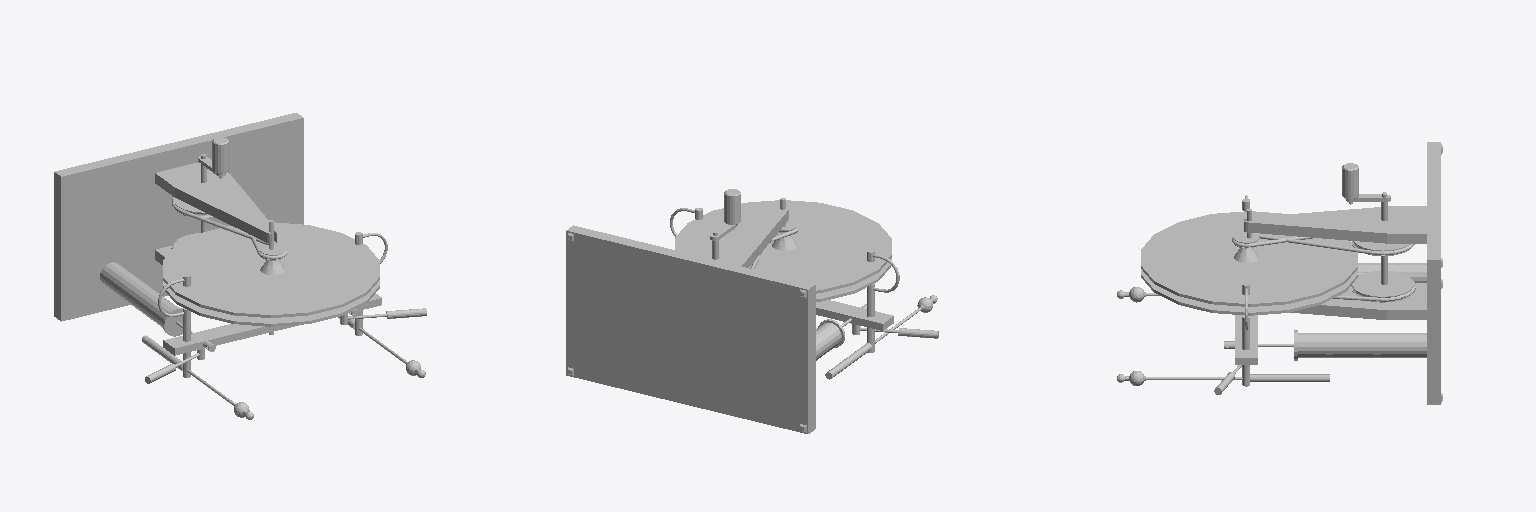
The model's file is Máquina electrostática de Wimshurst.obj.
3 views of the same model, side by side, from view 1: azimuth 30°, elevation 25°; view 2: azimuth 150°, elevation 25°; view 3: azimuth 270°, elevation 25° (orthographic).
Visible parts, largest first — view 1: Cut033, Cylinder001, Cut034, Cylinder, Fusion[number redacted], Array001, Fusion001014, Fusion[number redacted], Fusion[number redacted]; view 2: Cut033, Cylinder001, Cut034, Fusion001014, Array001, Cylinder, Fusion[number redacted], Fusion[number redacted]; view 3: Cylinder001, Cut033, Cut034, Fusion[number redacted], Cylinder, Array001, Fusion[number redacted], Fusion001014, Fusion[number redacted], Cylinder073, Fusion001008.
Part boxes in pixels (x1,y1,x2,y2): Cut033: (54, 113, 381, 355); Cylinder001: (163, 222, 379, 317); Cut034: (100, 232, 387, 377); Cylinder: (163, 280, 379, 326); Fusion[number redacted]: (174, 154, 284, 334); Array001: (166, 224, 379, 313); Fusion001014: (198, 137, 228, 175); Fusion[number redacted]: (151, 299, 182, 336); Fusion[number redacted]: (171, 198, 286, 259); Cut033: (566, 207, 893, 433); Cylinder001: (675, 200, 891, 293); Cut034: (670, 208, 899, 360); Fusion001014: (710, 189, 740, 240); Array001: (678, 201, 890, 283); Cylinder: (816, 258, 891, 301); Fusion[number redacted]: (712, 198, 796, 259); Fusion[number redacted]: (816, 319, 844, 352); Cylinder001: (1141, 211, 1357, 306); Cut033: (1235, 142, 1440, 404); Cut034: (1224, 195, 1426, 386); Fusion[number redacted]: (1234, 192, 1413, 302); Cylinder: (1141, 269, 1357, 315); Array001: (1142, 212, 1356, 301); Fusion[number redacted]: (1232, 234, 1415, 301); Fusion001014: (1342, 163, 1390, 201); Fusion[number redacted]: (1294, 330, 1325, 360); Cylinder073: (1250, 374, 1329, 381); Fusion001008: (1117, 371, 1242, 385).
Bounding box in the file's own units: 406 × 248 × 409.